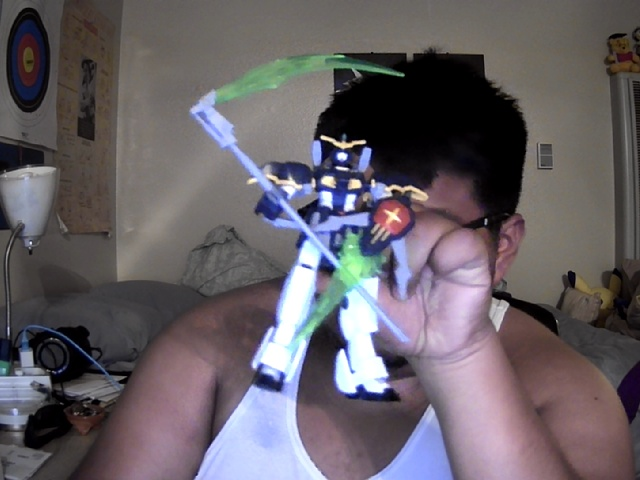Deathsythe: (190, 53, 430, 403)
